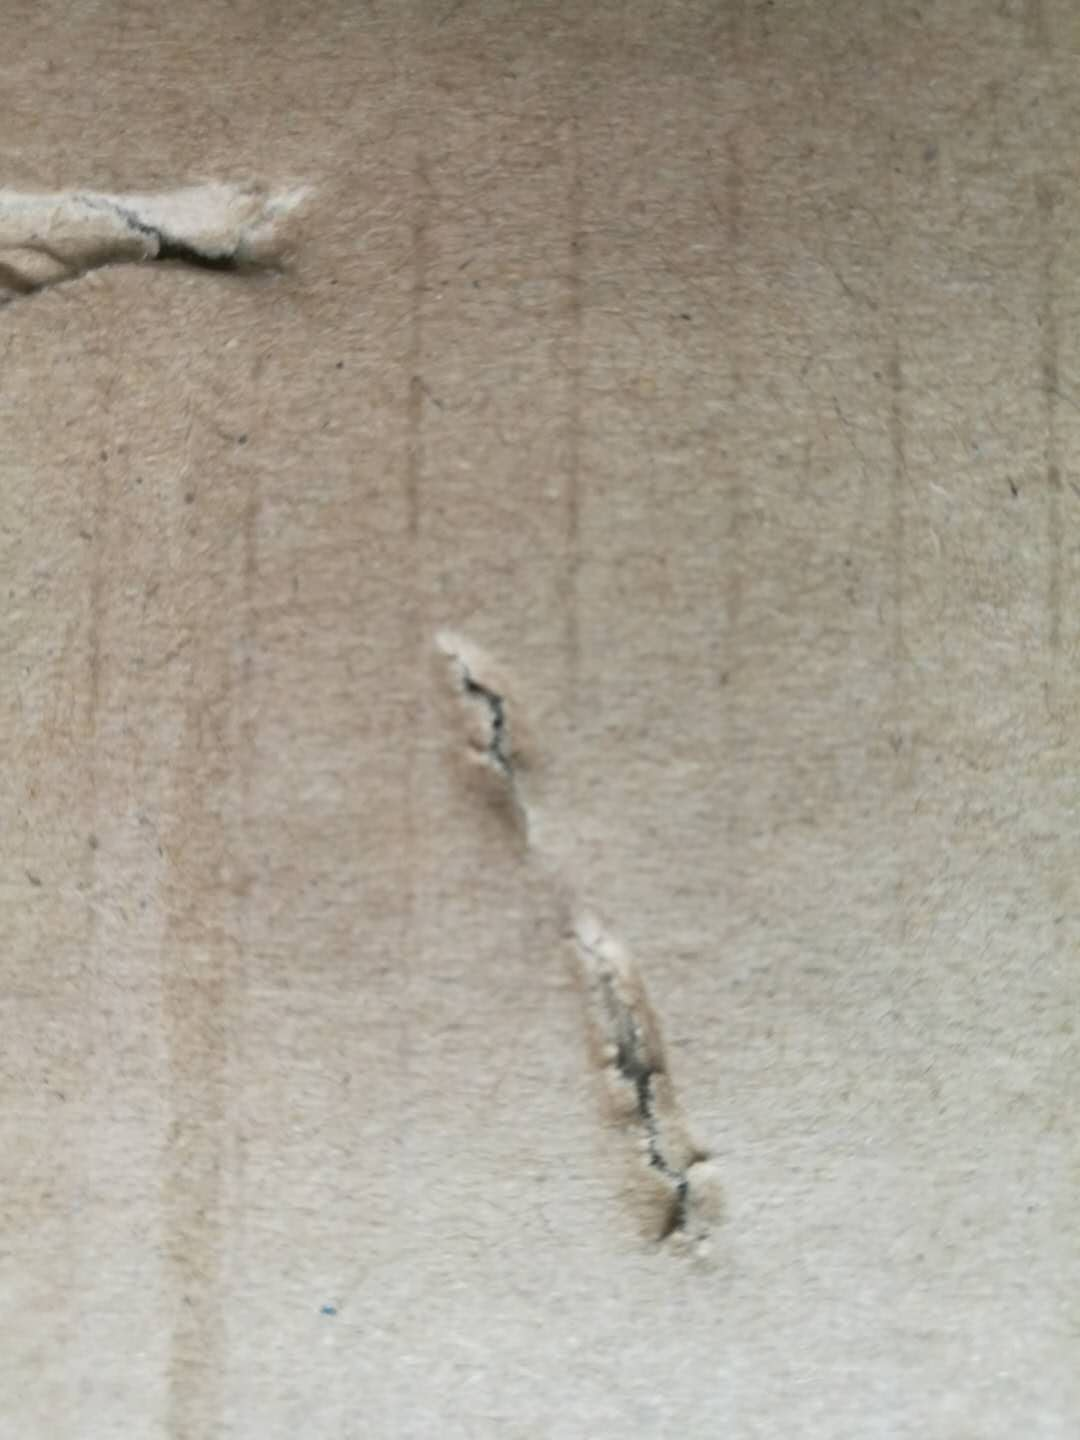defect: (403, 596, 792, 1298), (2, 122, 383, 353)
